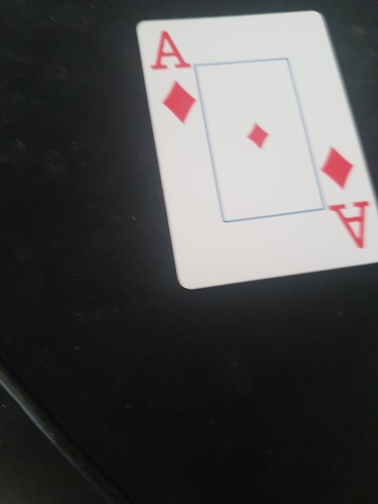ace: (135, 10, 378, 289)
